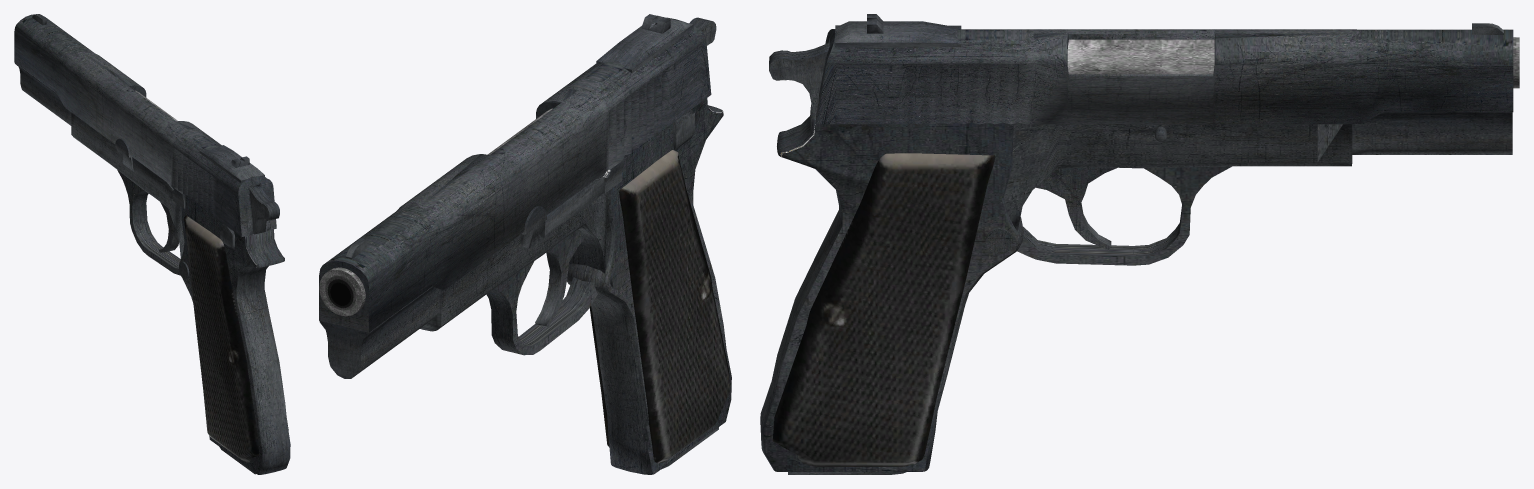
File: hipower_world.fbx
3 renders of one model, left to right at view 1: azimuth 30°, elevation 25°; view 2: azimuth 150°, elevation 25°; view 3: azimuth 270°, elevation 25°, orthographic. The views are drawn at different scales.
Parts seen in each view (by area): view 1: hipower_slide, hipower_plasticgrip, hipower_grip, hipower_body, hipower_triggerguard, hipower_rearsight, hipower_slidelock, hipower_hammer, hipower_trigger; view 2: hipower_slide, hipower_plasticgrip, hipower_grip, hipower_body, hipower_triggerguard, hipower_rearsight, hipower_slidelock, hipower_barrel, hipower_trigger, hipower_safety; view 3: hipower_slide, hipower_plasticgrip, hipower_body, hipower_grip, hipower_barrel, hipower_triggerguard, hipower_rearsight, hipower_trigger, hipower_hammer.
Boxes of the visible parts, <box> form: hipower_slide: <box>14,14,276,236</box>; hipower_plasticgrip: <box>184,215,288,462</box>; hipower_grip: <box>179,195,290,474</box>; hipower_body: <box>15,63,270,258</box>; hipower_triggerguard: <box>117,170,180,275</box>; hipower_rearsight: <box>199,145,264,182</box>; hipower_slidelock: <box>115,138,185,208</box>; hipower_hammer: <box>249,184,279,234</box>; hipower_trigger: <box>159,202,179,252</box>; hipower_slide: <box>319,17,711,332</box>; hipower_plasticgrip: <box>589,150,730,463</box>; hipower_grip: <box>567,98,731,474</box>; hipower_body: <box>319,172,611,378</box>; hipower_triggerguard: <box>486,261,597,355</box>; hipower_rearsight: <box>596,14,693,72</box>; hipower_slidelock: <box>520,159,623,248</box>; hipower_barrel: <box>319,108,552,316</box>; hipower_trigger: <box>535,229,585,327</box>; hipower_safety: <box>673,109,694,150</box>; hipower_slide: <box>816,29,1513,124</box>; hipower_plasticgrip: <box>772,153,995,466</box>; hipower_body: <box>816,94,1512,231</box>; hipower_grip: <box>760,104,1023,471</box>; hipower_barrel: <box>1067,37,1519,88</box>; hipower_triggerguard: <box>1017,166,1231,265</box>; hipower_rearsight: <box>835,14,961,47</box>; hipower_trigger: <box>1036,167,1117,249</box>; hipower_hammer: <box>769,42,829,114</box>.
Size of the model in its own units: 0.8528 by 5.73 by 8.85.
